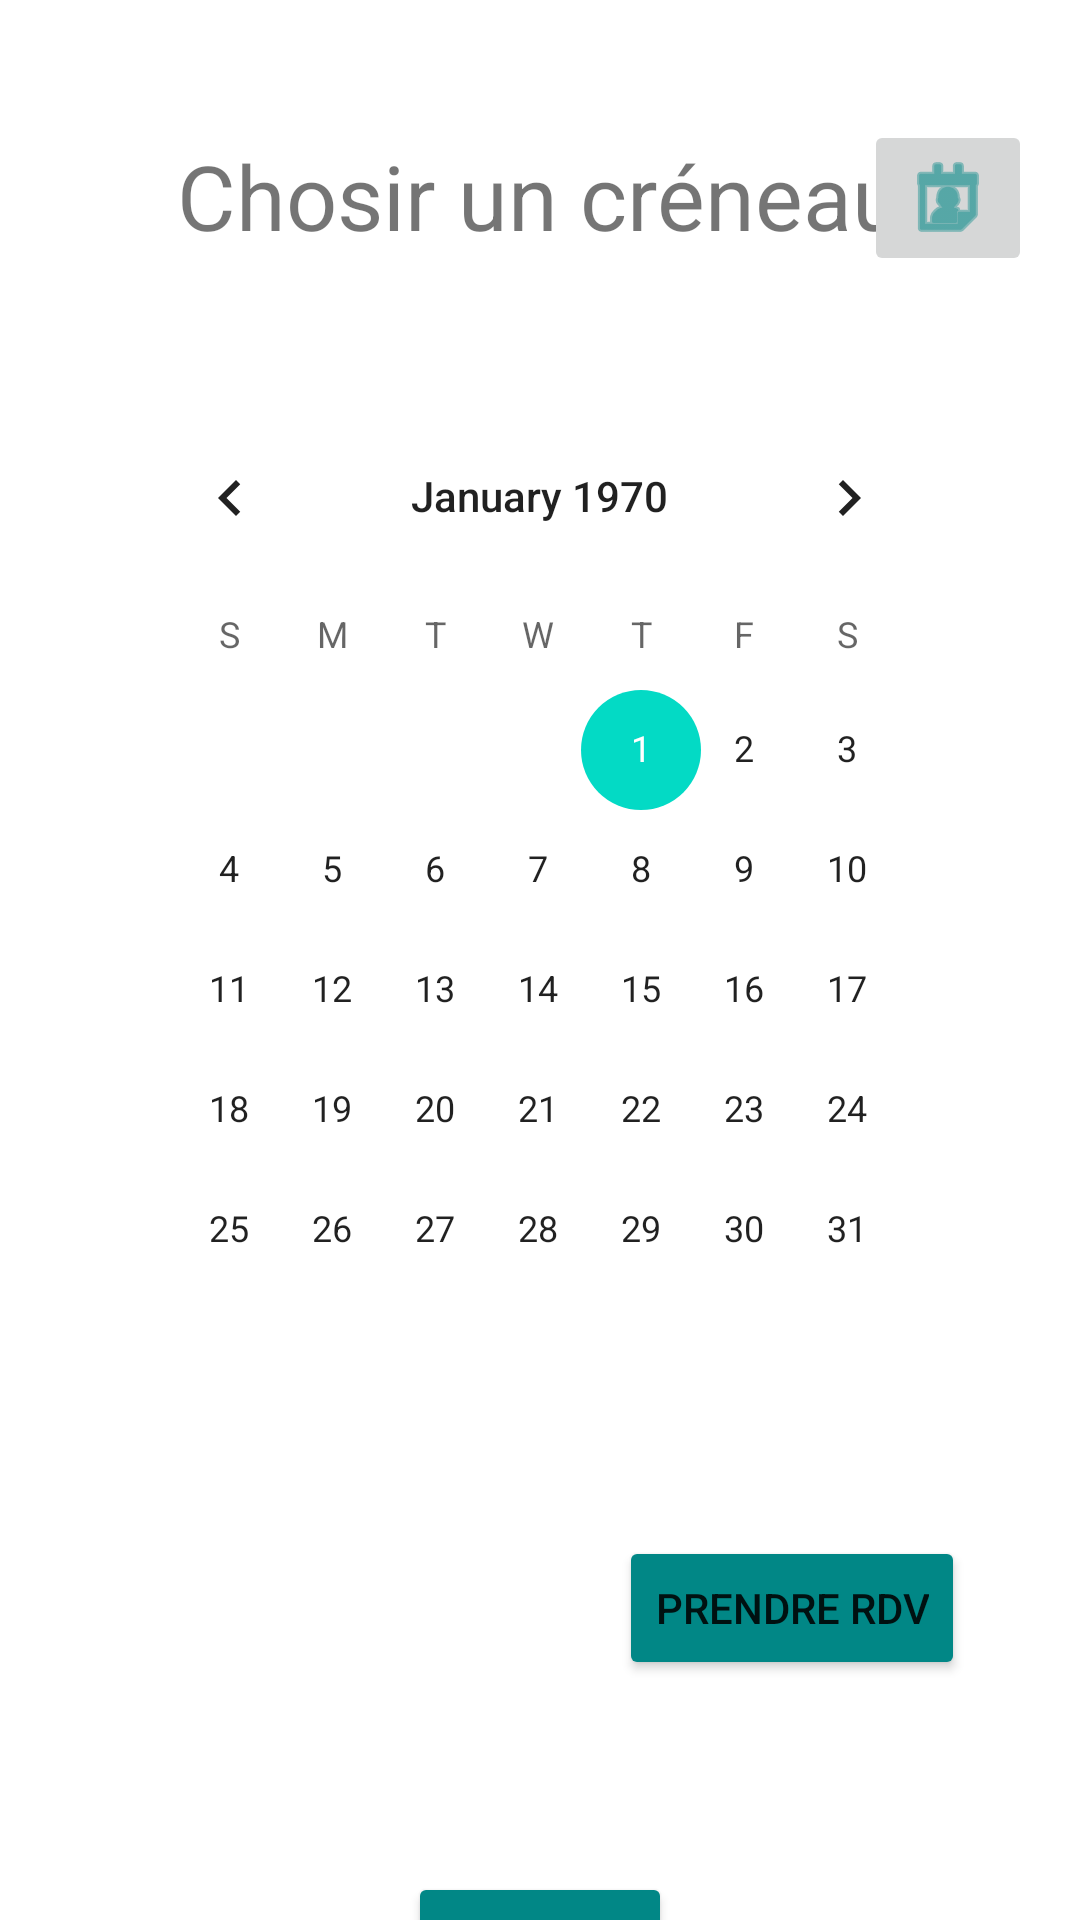

Named icons in this screenshot (1080px x 1920px) and their centers, (x=x, y=y):
calendar: (x=942, y=198)
